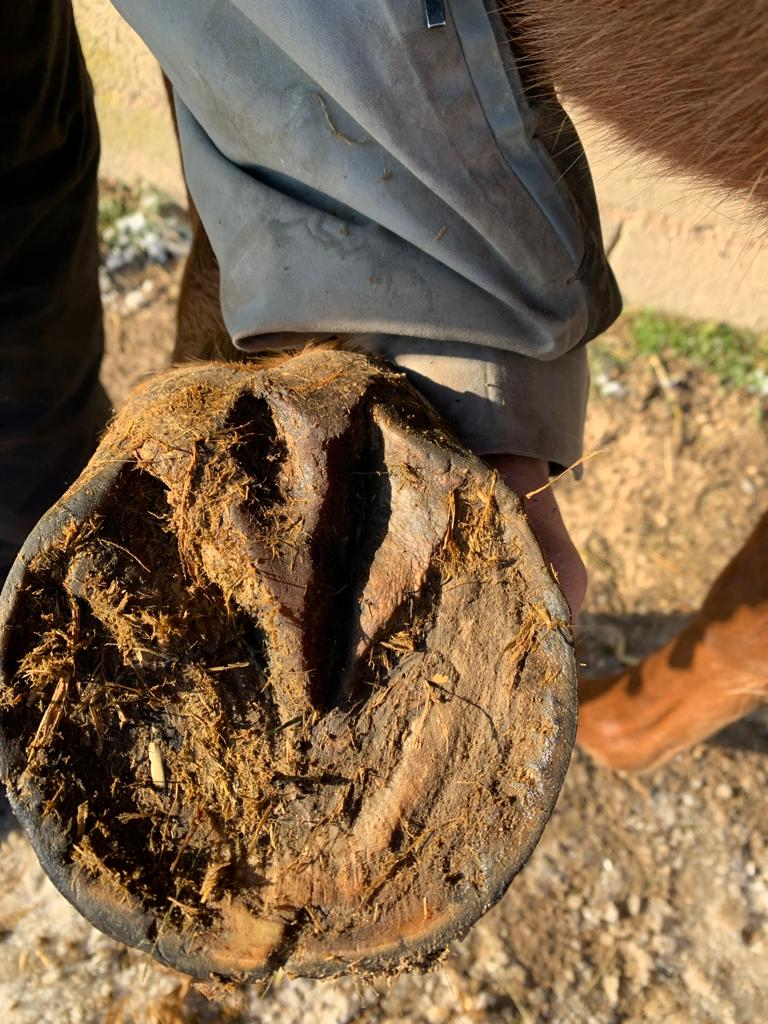horsesole: (4, 385, 578, 979)
